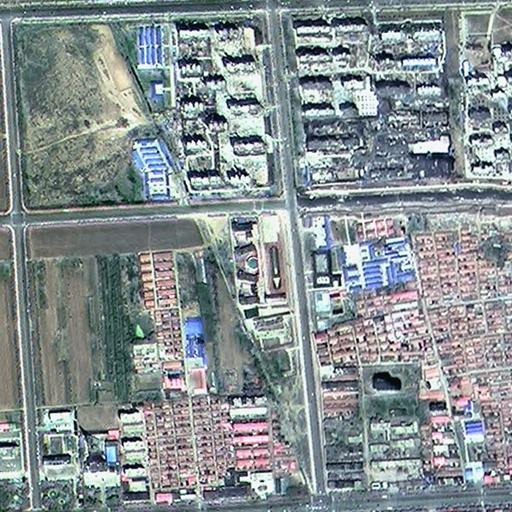school: (227, 210, 290, 305)
